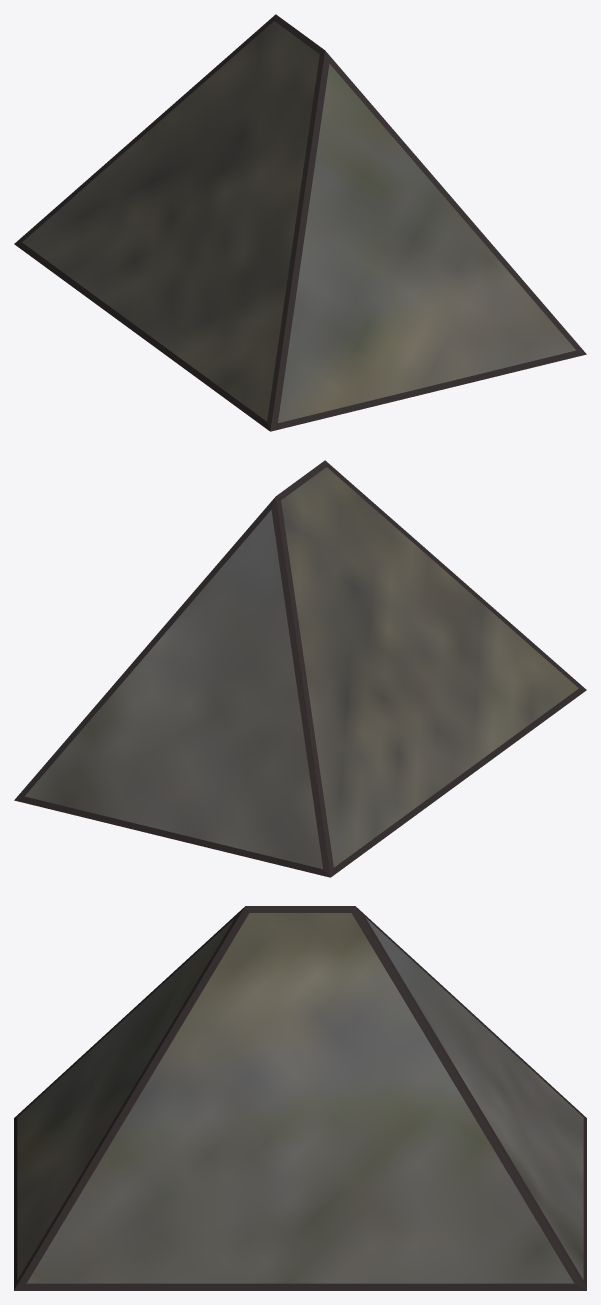
Rendered from roofRectangular.fbx.
3 renders of one model, top to bottom at view 1: azimuth 30°, elevation 25°; view 2: azimuth 150°, elevation 25°; view 3: azimuth 270°, elevation 25°, orthographic. The views are drawn at different scales.
Parts seen in each view (by area): view 1: rectangularRoof; view 2: rectangularRoof; view 3: rectangularRoof.
Boxes of the visible parts, x1,y1,x2,y2 form: rectangularRoof: [14, 14, 586, 431]; rectangularRoof: [14, 460, 586, 877]; rectangularRoof: [14, 906, 586, 1290].
Size of the model in its own units: 258 by 208 by 361.
